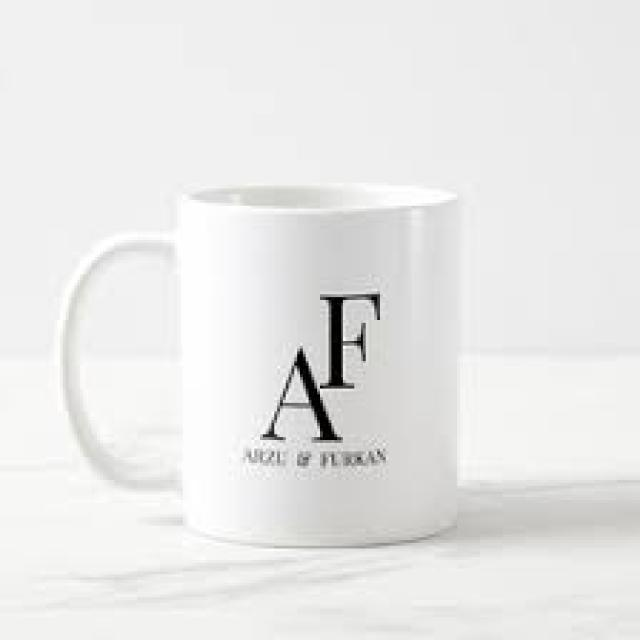taza: (54, 180, 462, 549)
